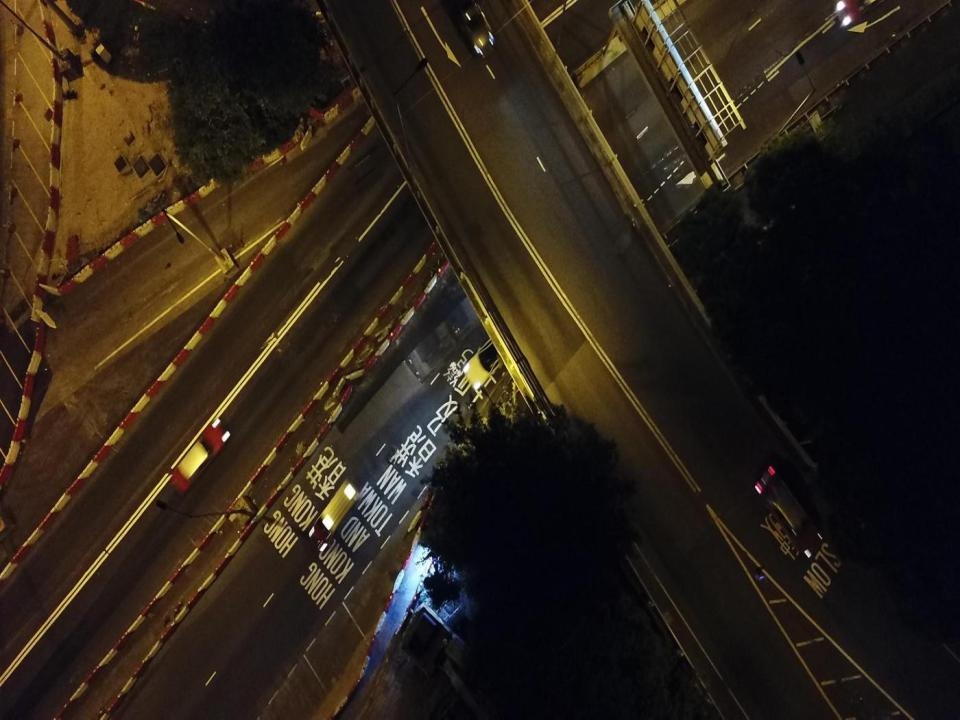car: (754, 462, 822, 560), (170, 415, 230, 492), (308, 476, 357, 553), (463, 323, 519, 390), (450, 0, 498, 54), (832, 0, 890, 25)
